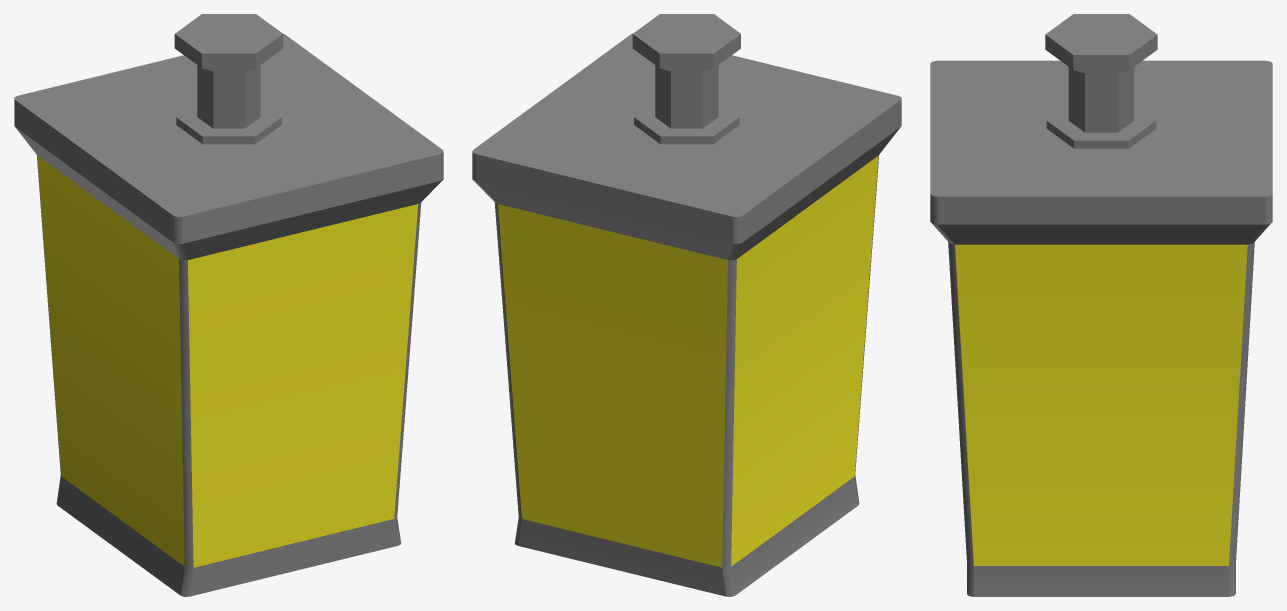
The model's file is Colored_Lamp.fbx.
3 views of the same model, side by side, from view 1: azimuth 30°, elevation 25°; view 2: azimuth 150°, elevation 25°; view 3: azimuth 270°, elevation 25° (orthographic). The views are drawn at different scales.
Parts seen in each view (by area): view 1: Lamp; view 2: Lamp; view 3: Lamp.
Boxes of the visible parts, x1=… form: Lamp: x1=14, y1=14, x2=443, y2=596; Lamp: x1=472, y1=14, x2=901, y2=596; Lamp: x1=930, y1=14, x2=1272, y2=596.
Bounding box in the file's own units: 17.3 × 30.04 × 18.38.
